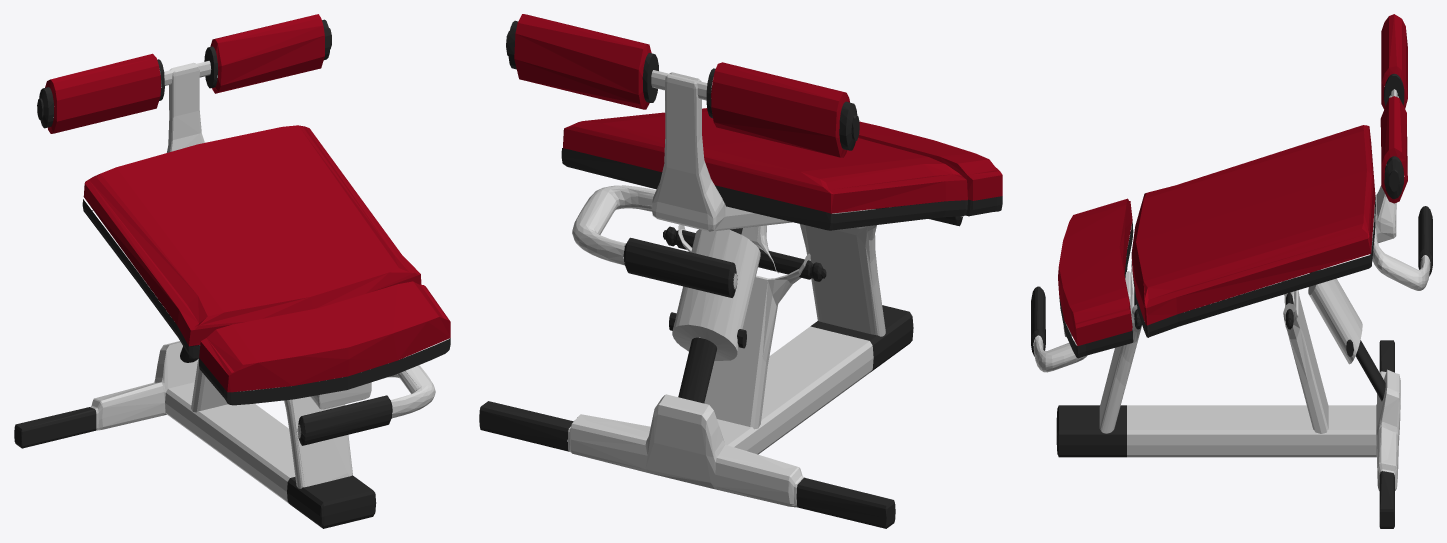
The model's file is sh-bsby-abdominal-bench.glb.
3 renders of one model, left to right at view 1: azimuth 30°, elevation 25°; view 2: azimuth 150°, elevation 25°; view 3: azimuth 270°, elevation 25°, orthographic. The views are drawn at different scales.
Visible parts, largest first — view 1: Cube.031_Cube.047, Cube.025_Cube.041; view 2: Cube.025_Cube.041, Cube.031_Cube.047; view 3: Cube.031_Cube.047, Cube.025_Cube.041.
Part boxes in pixels (left/top/right/bottom): Cube.031_Cube.047: left=45, top=14, right=450, bottom=392; Cube.025_Cube.041: left=14, top=19, right=450, bottom=528; Cube.025_Cube.041: left=479, top=20, right=1002, bottom=528; Cube.031_Cube.047: left=514, top=14, right=1002, bottom=213; Cube.031_Cube.047: left=1058, top=14, right=1407, bottom=345; Cube.025_Cube.041: left=1031, top=73, right=1432, bottom=528.
Size of the model in its own units: 0.9985 by 1 by 1.
